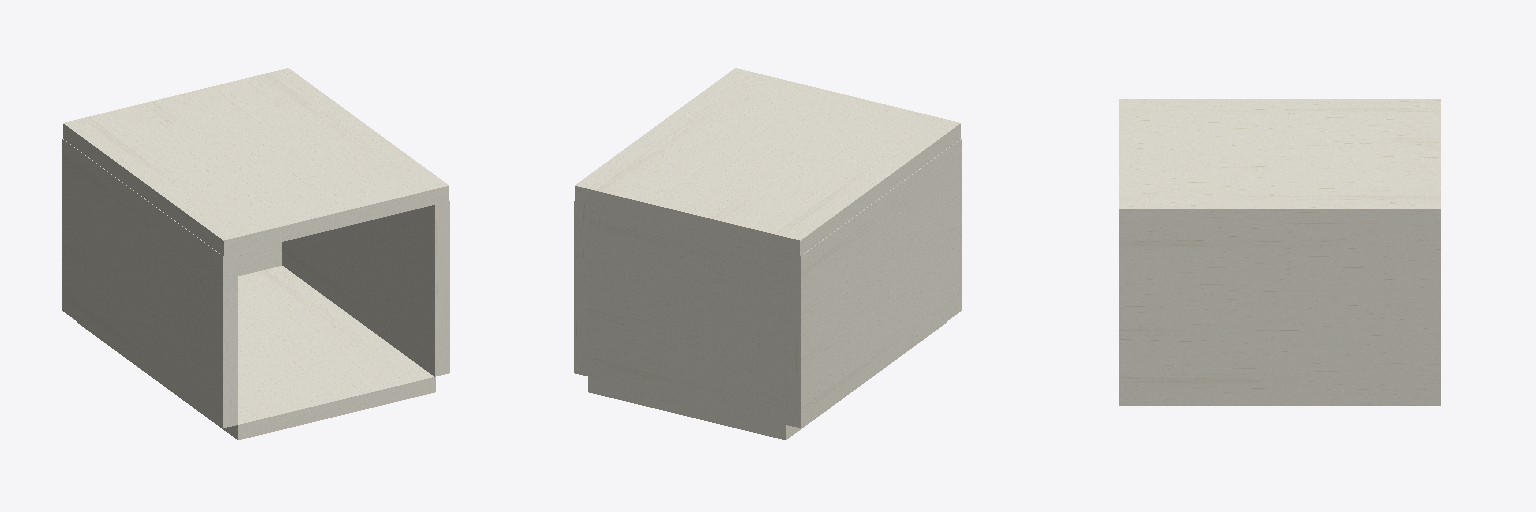
The picture shows the model from 3 angles: view 1: azimuth 30°, elevation 25°; view 2: azimuth 150°, elevation 25°; view 3: azimuth 270°, elevation 25°; orthographic projection.
Visible parts, largest first — view 1: polySurface2; view 2: polySurface2; view 3: polySurface2.
Boxes of the visible parts, x1=… form: polySurface2: x1=62, y1=68, x2=449, y2=439; polySurface2: x1=574, y1=68, x2=961, y2=439; polySurface2: x1=1119, y1=99, x2=1440, y2=405.
Size of the model in its own units: 2.52 by 2.17 by 3.1.
2 materials, 1 textured.